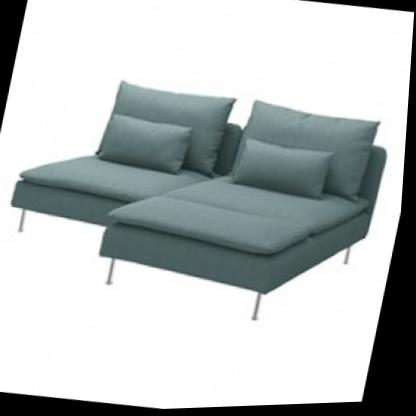Sofa: (0, 47, 409, 366)
